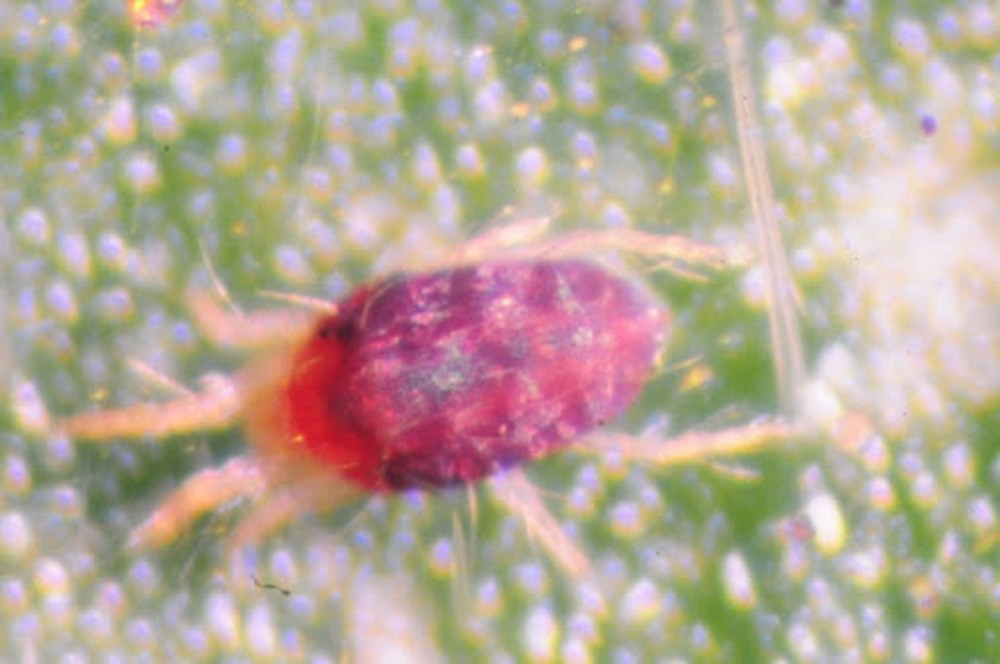Aracnido Rojo: (84, 209, 774, 600)
